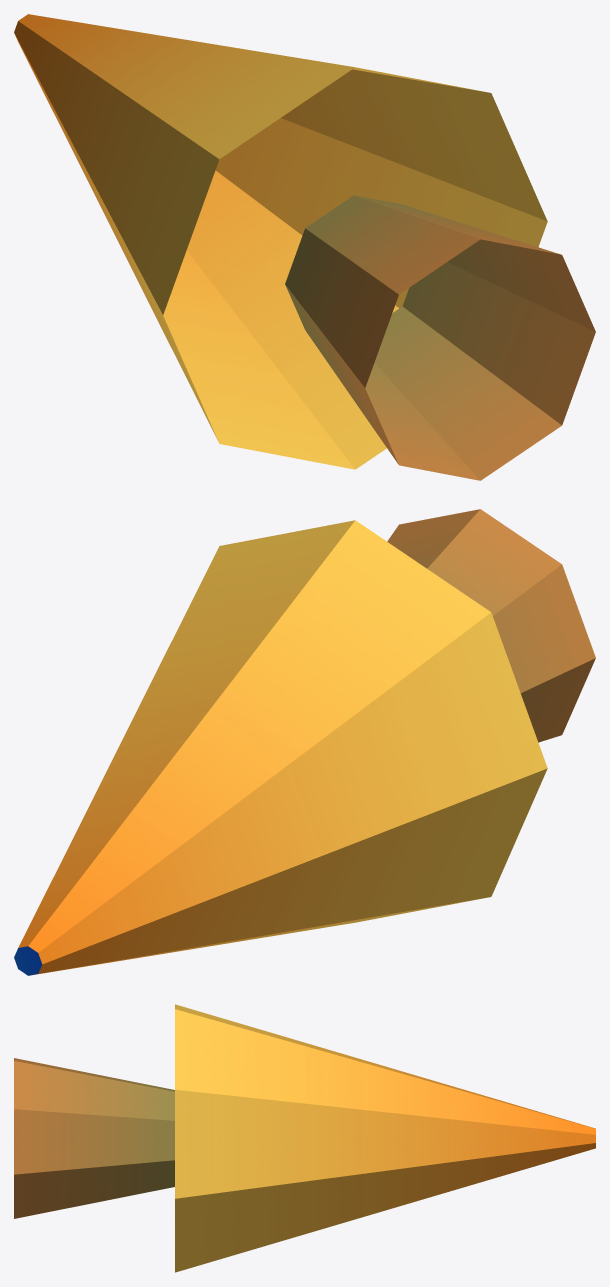
Rendered from Tree 1 .fbx.
3 views of the same model, one above another, from view 1: azimuth 30°, elevation 25°; view 2: azimuth 150°, elevation 25°; view 3: azimuth 270°, elevation 25° (orthographic). The views are drawn at different scales.
Visible parts, largest first — view 1: Character 1; view 2: Character 1; view 3: Character 1.
Part boxes in pixels (x1,y1,x2,y2): Character 1: (14, 14, 595, 480); Character 1: (14, 509, 595, 975); Character 1: (14, 1004, 595, 1272).
Bounding box in the file's own units: 107 × 107 × 218.
